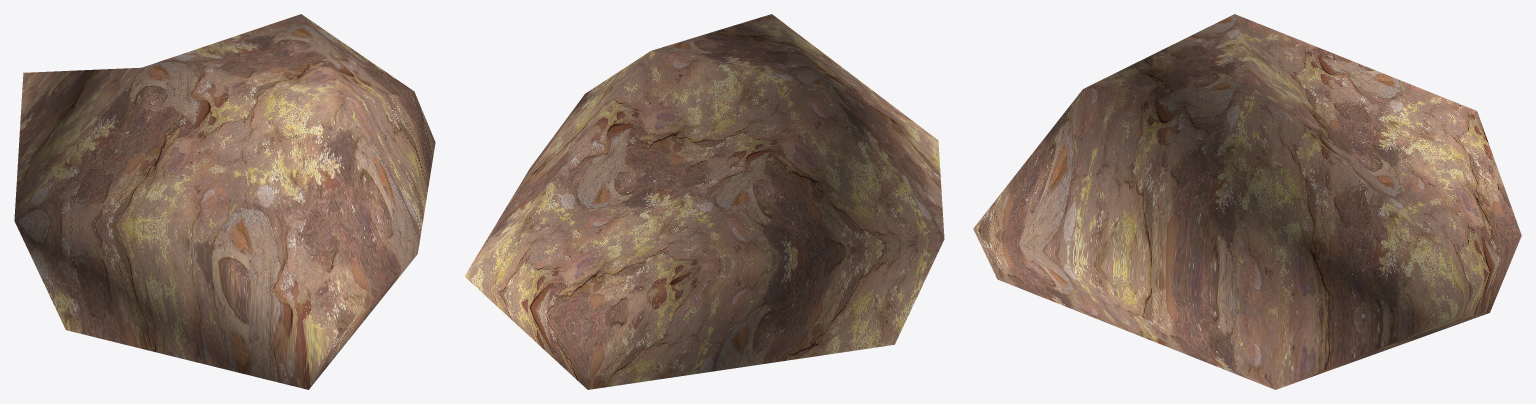
Rendered from boulder6.fbx.
3 renders of one model, left to right at view 1: azimuth 30°, elevation 25°; view 2: azimuth 150°, elevation 25°; view 3: azimuth 270°, elevation 25°, orthographic. The views are drawn at different scales.
Parts seen in each view (by area): view 1: boulder6; view 2: boulder6; view 3: boulder6.
Boxes of the visible parts, bbox=[...] form: boulder6: bbox=[14, 14, 435, 389]; boulder6: bbox=[464, 14, 944, 389]; boulder6: bbox=[973, 14, 1521, 389].
Bounding box in the file's own units: 38000 × 21400 × 43000.
